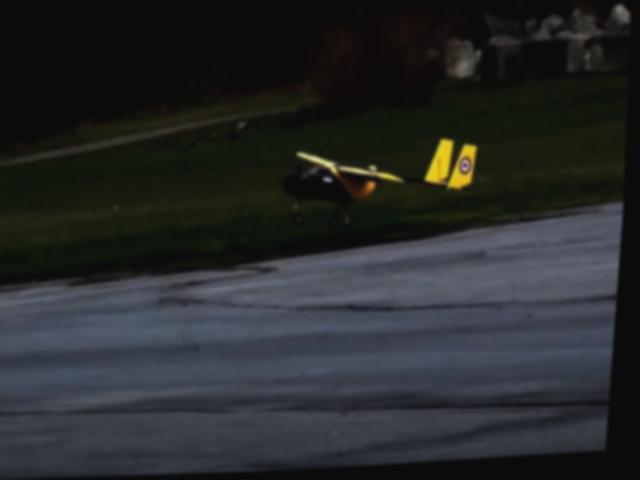iha: (267, 136, 481, 235)
